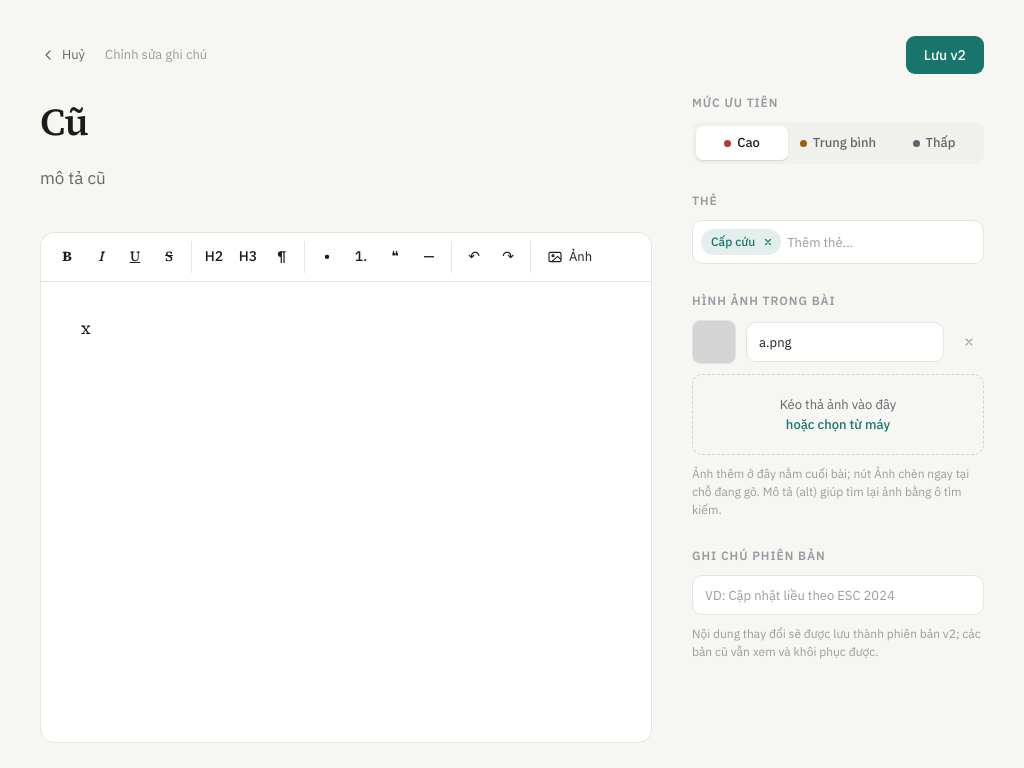
EditorClient › PATCHes the complete note body — a partial payload would wipe fields
Step 1. Click the button "Lưu v2" → x=945, y=55, box [906,36,984,74]
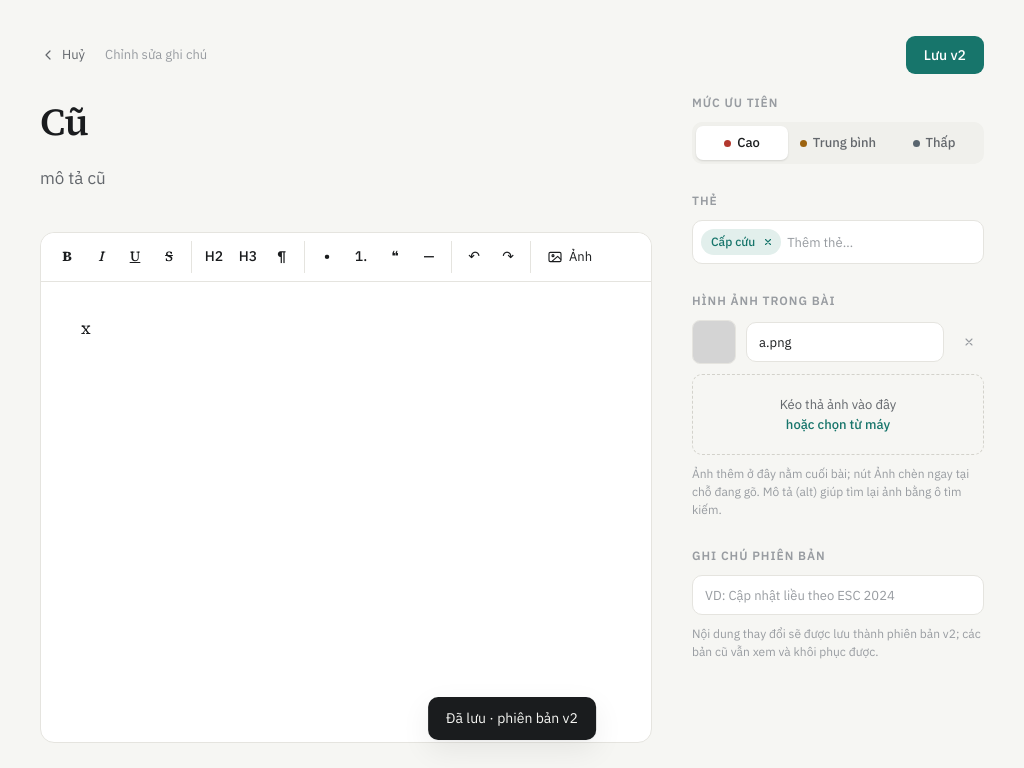
Expected: the text "Đã lưu · phiên bản v2" is shown, [428,697,596,740]
